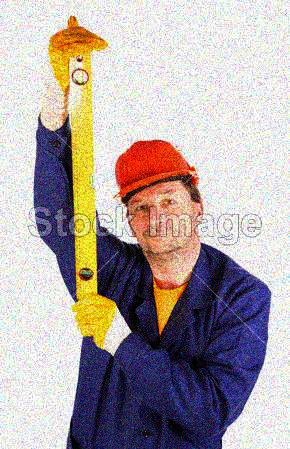helmet: (111, 137, 203, 256)
